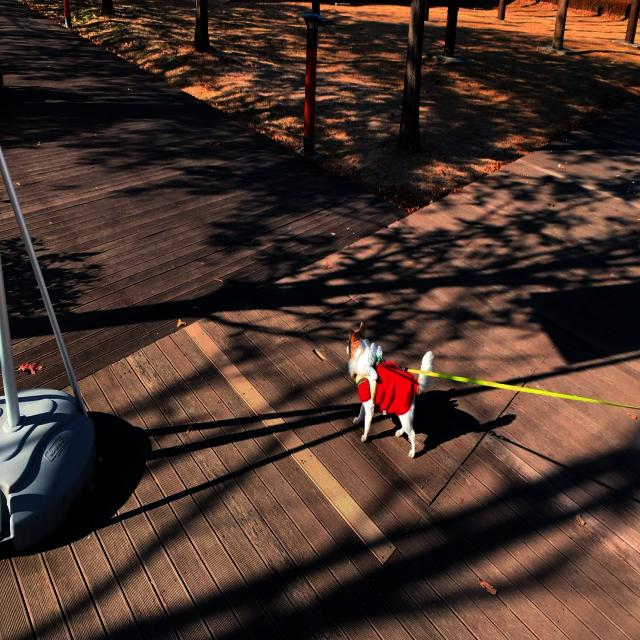Dog: (346, 321, 434, 461)
